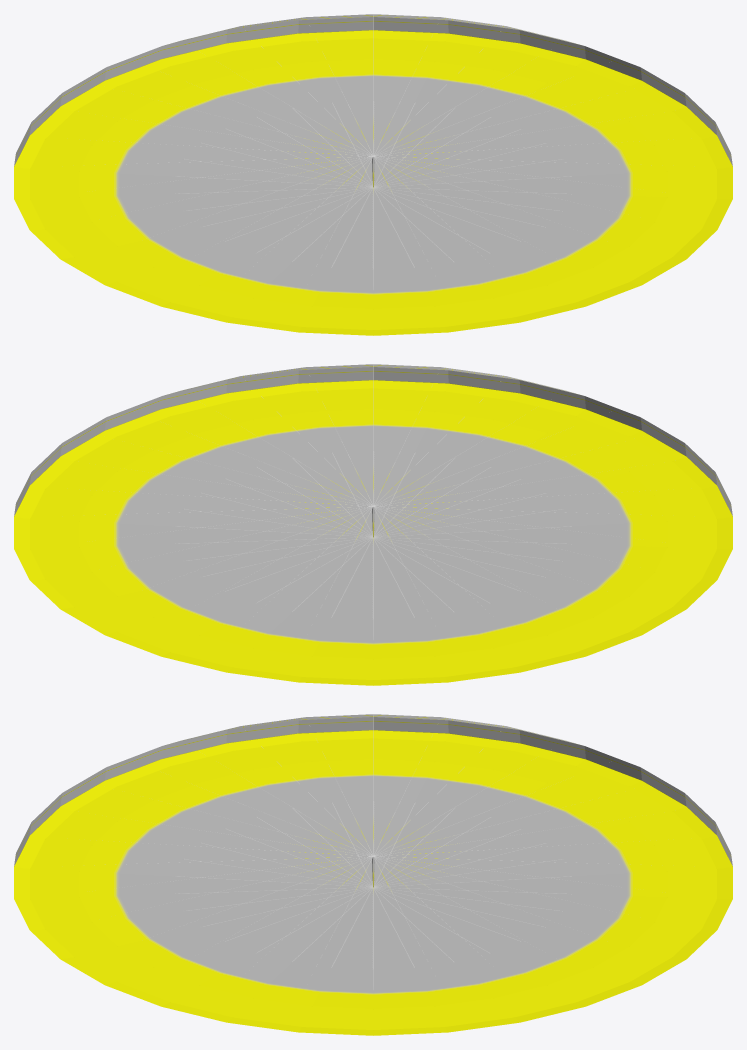
3 views of the same model, one above another, from view 1: azimuth 30°, elevation 25°; view 2: azimuth 150°, elevation 25°; view 3: azimuth 270°, elevation 25° (orthographic).
Visible parts, largest first — view 1: algeomath; view 2: algeomath; view 3: algeomath.
Part boxes in pixels (x1=…): algeomath: x1=14, y1=14, x2=732, y2=335; algeomath: x1=14, y1=364, x2=732, y2=685; algeomath: x1=14, y1=714, x2=732, y2=1035.
Bounding box in the file's own units: 13.13 × 0.7024 × 13.05.
Materials: 1 (1 with a texture image).
